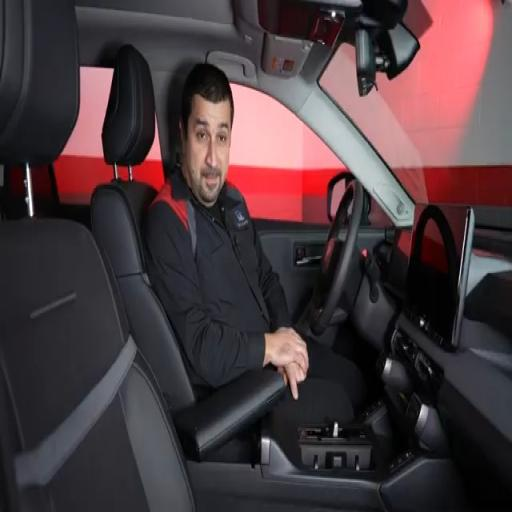side_mirror: (327, 171, 354, 223), (327, 171, 353, 221)
window: (228, 84, 344, 226)
windshield: (320, 0, 511, 206)
